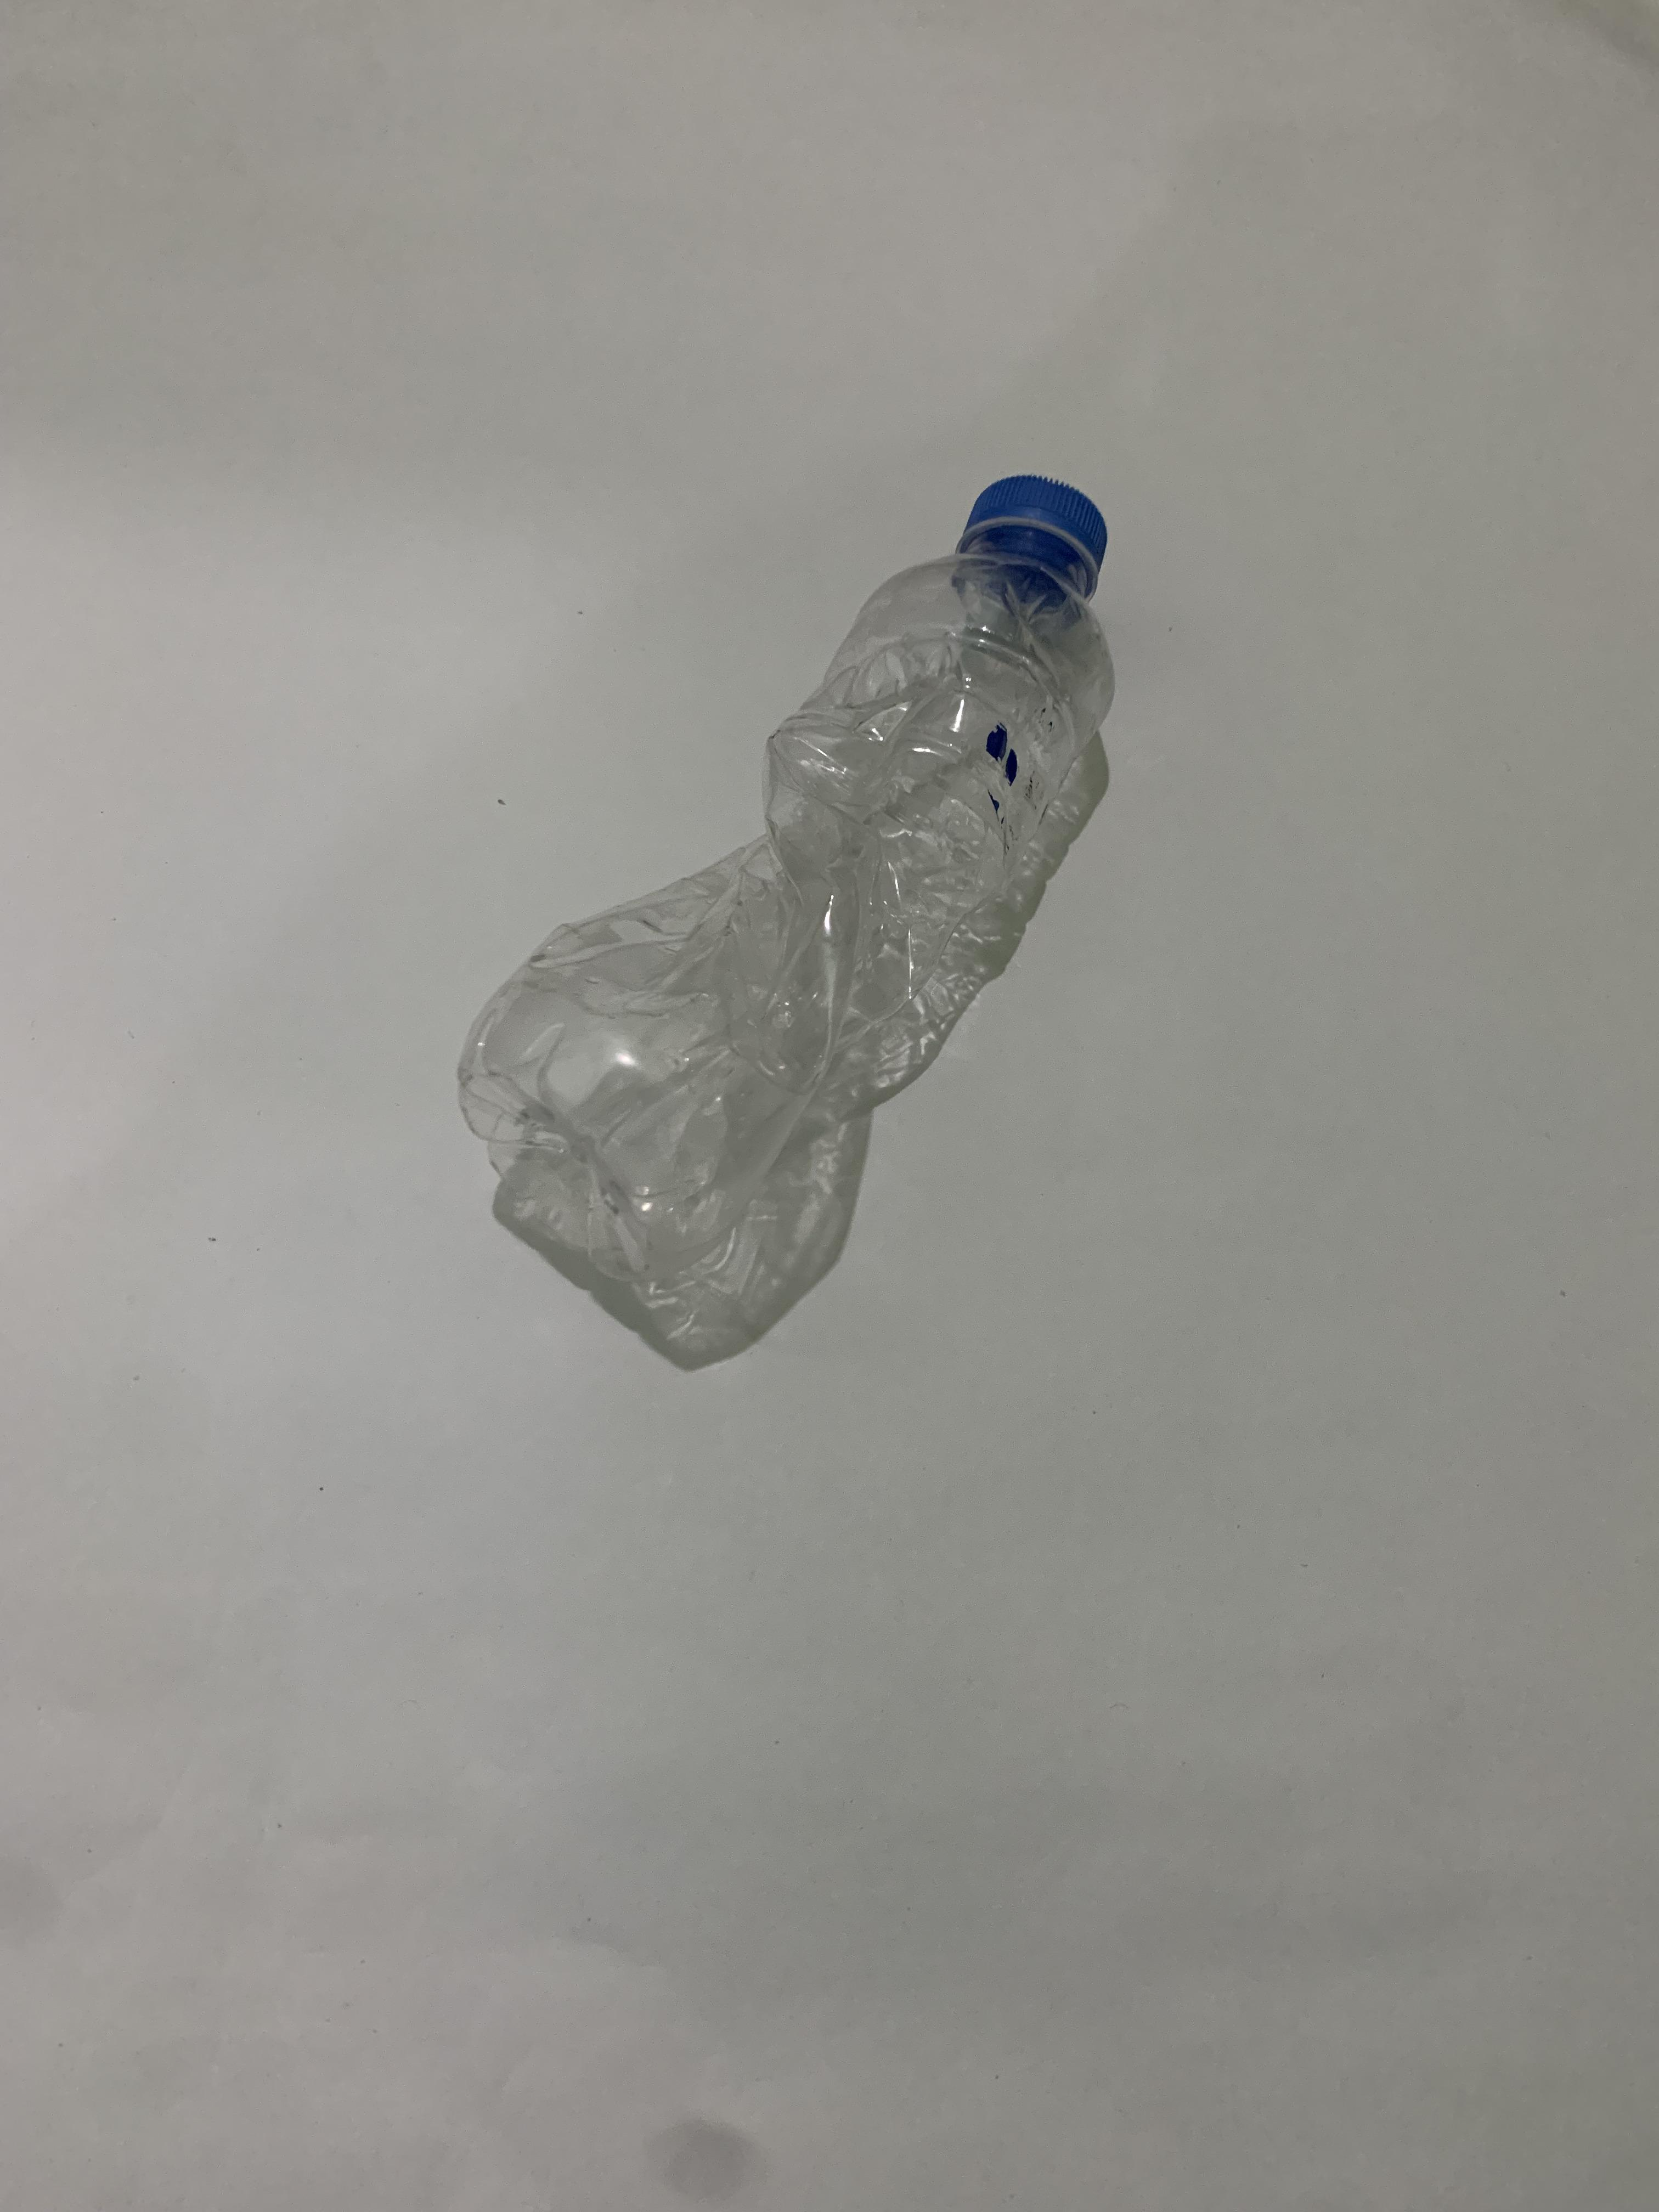bottle: (450, 455, 1129, 1360)
